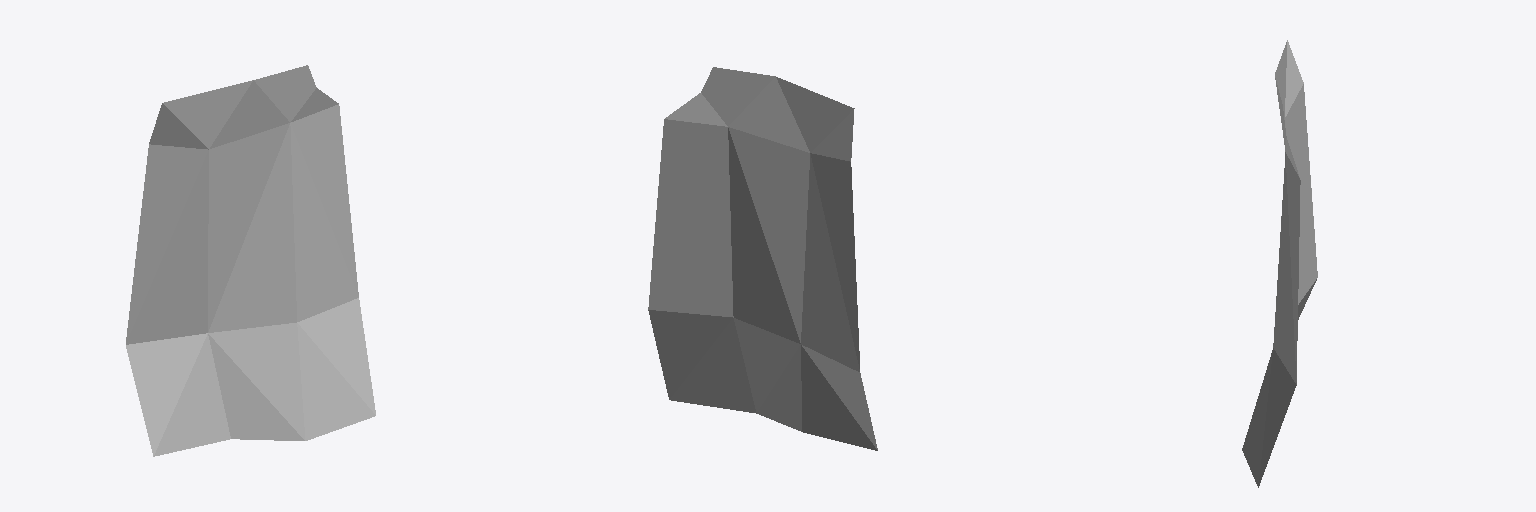
3 renders of one model, left to right at view 1: azimuth 30°, elevation 25°; view 2: azimuth 150°, elevation 25°; view 3: azimuth 270°, elevation 25°, orthographic.
Parts seen in each view (by area): view 1: np1641; view 2: np1641; view 3: np1641.
Part boxes in pixels (x1,y1,x2,y2): np1641: (126, 65, 375, 456); np1641: (648, 67, 877, 450); np1641: (1242, 40, 1317, 487).
Bounding box in the file's own units: 56.62 × 86.86 × 16.72.